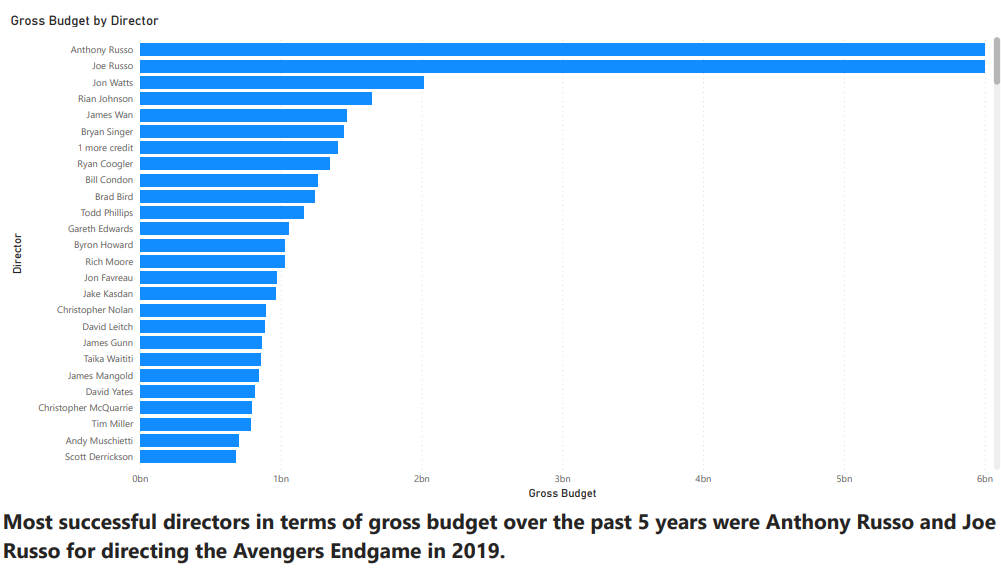

What the dashboard file says about the page in this screenshot:
{"tool":"powerbi","page":{"name":"Page 4","canvas":[1280,720],"ordinal":3},"visuals":[{"type":"clusteredBarChart","fields":{"Y":["movies with budget.Gross Budget"],"Category":["movie_directors.Director"]},"box":[10.1,0,1269.9,624.9],"z":0},{"type":"textbox","box":[0,624.9,1280,95.7],"z":1000}]}

Visuals, with their boxes on the page's 1280x720 design canvas (x1, y1, x2, y2). These are canvas units, not pixel positions in the 1001x588 screenshot, which may show the page scaled, cropped or inside an application window:
clusteredBarChart - movies with budget.Gross Budget x movie_directors.Director: 10 0 1280 625
textbox: 0 625 1280 721
